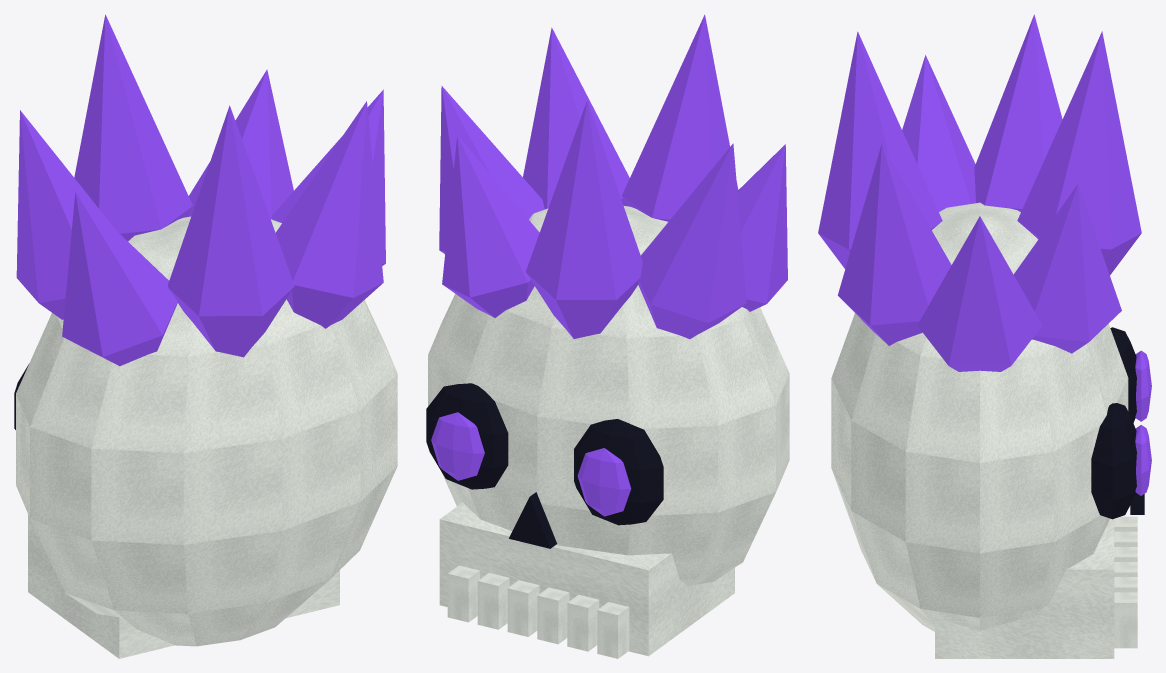
File: skull.glb
3 renders of one model, left to right at view 1: azimuth 30°, elevation 25°; view 2: azimuth 150°, elevation 25°; view 3: azimuth 270°, elevation 25°, orthographic. The views are drawn at different scales.
Visible parts, largest first — view 1: skull; view 2: skull; view 3: skull.
Part boxes in pixels (x1=…): skull: x1=14, y1=14, x2=397, y2=658; skull: x1=426, y1=14, x2=789, y2=658; skull: x1=818, y1=14, x2=1151, y2=658.
Size of the model in its own units: 0.2242 by 0.355 by 0.1864.
Materials: 1 (1 with a texture image).
